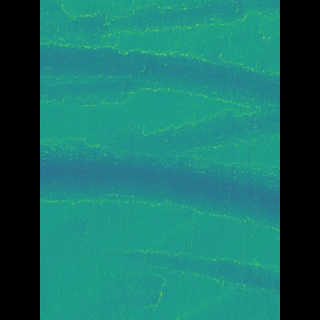Loch: (69, 35, 250, 149), (70, 133, 250, 236), (133, 244, 251, 300), (69, 0, 251, 33)
